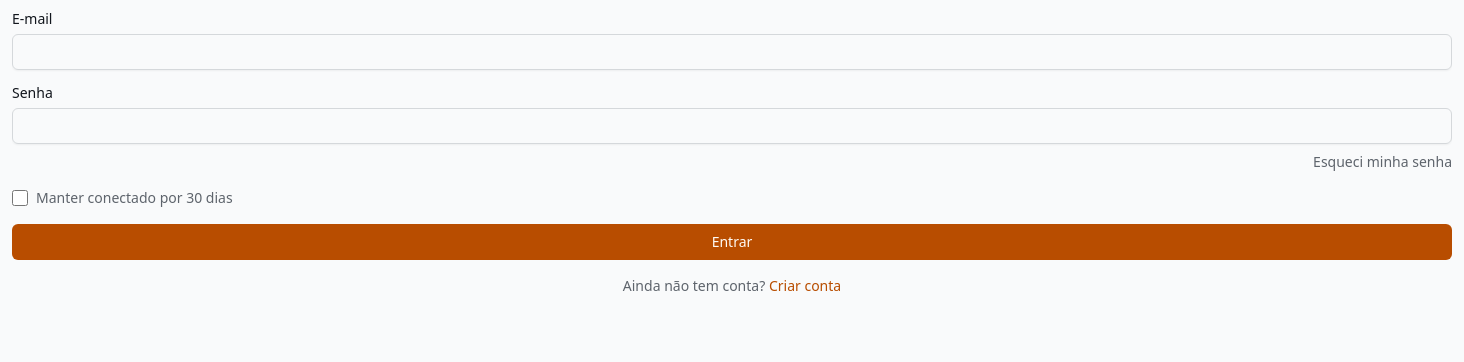
Test: LoginForm › shows invalid credentials as a general message
Step 1. Type "ana@example.com" into the field labelled "E-mail" → {"x": 732, "y": 52}, box [12, 34, 1452, 70]
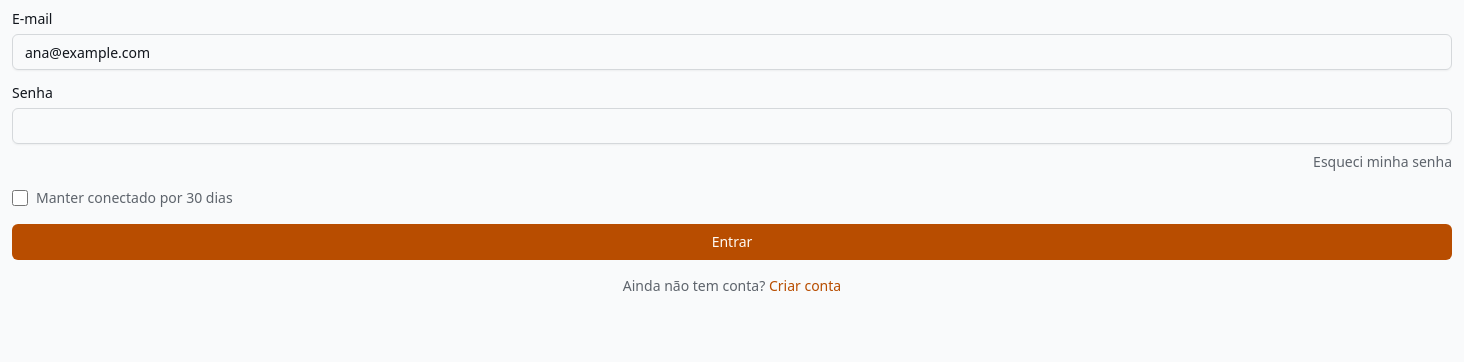
Step 2. Type "correct-horse-9" into the password field labelled "Senha" → {"x": 732, "y": 126}, box [12, 108, 1452, 144]
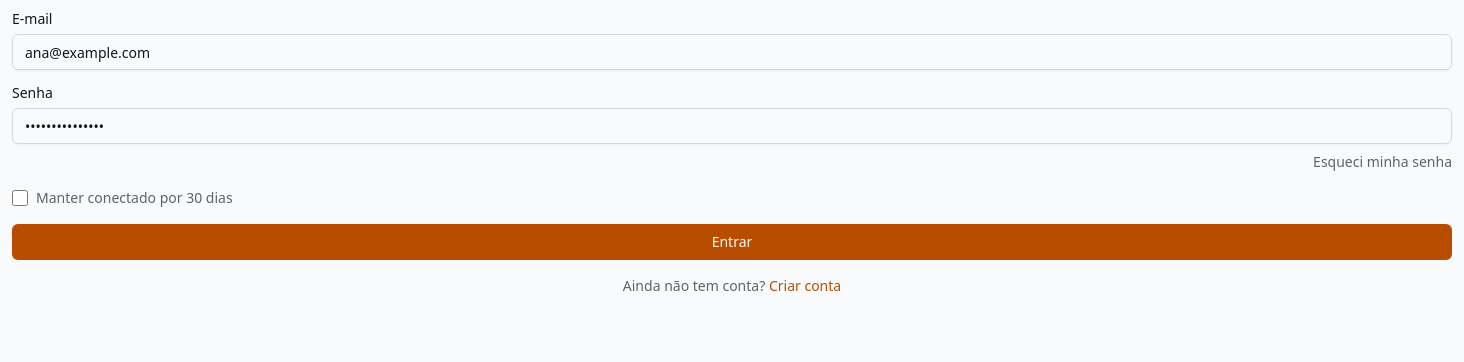
Step 3. Click the button "Entrar" → {"x": 732, "y": 242}, box [12, 224, 1452, 260]
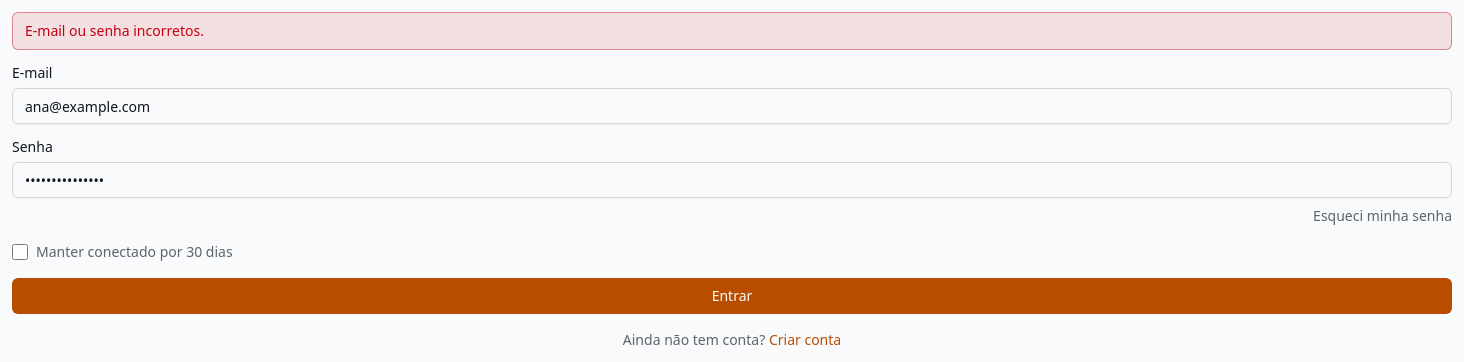
Expected: the button "Entrar" is enabled, [12, 278, 1452, 314]
Now the message reads "E-mail ou senha incorretos.", box [25, 21, 204, 40]
